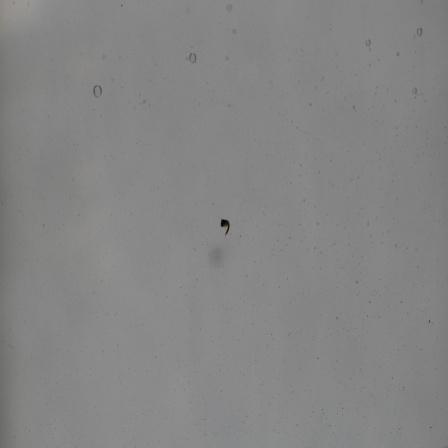Jentik-Nyamuk: (218, 217, 232, 240)
